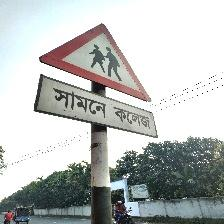College-in-front: (28, 16, 192, 154)
